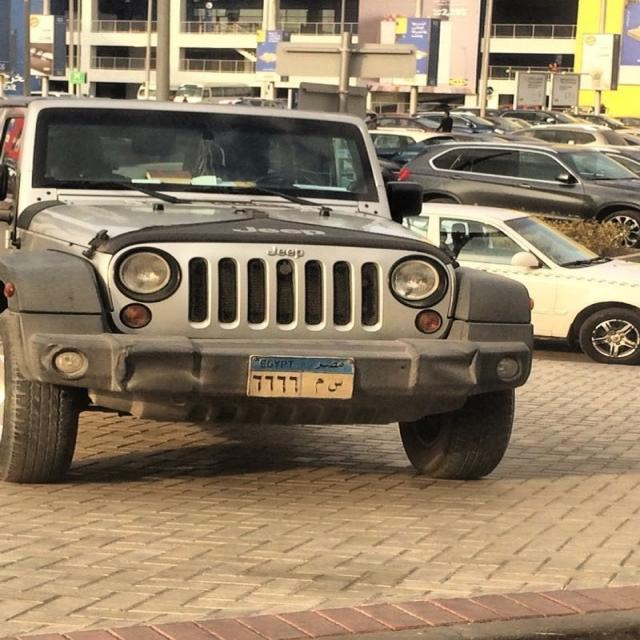License Plate: (244, 352, 358, 402)
